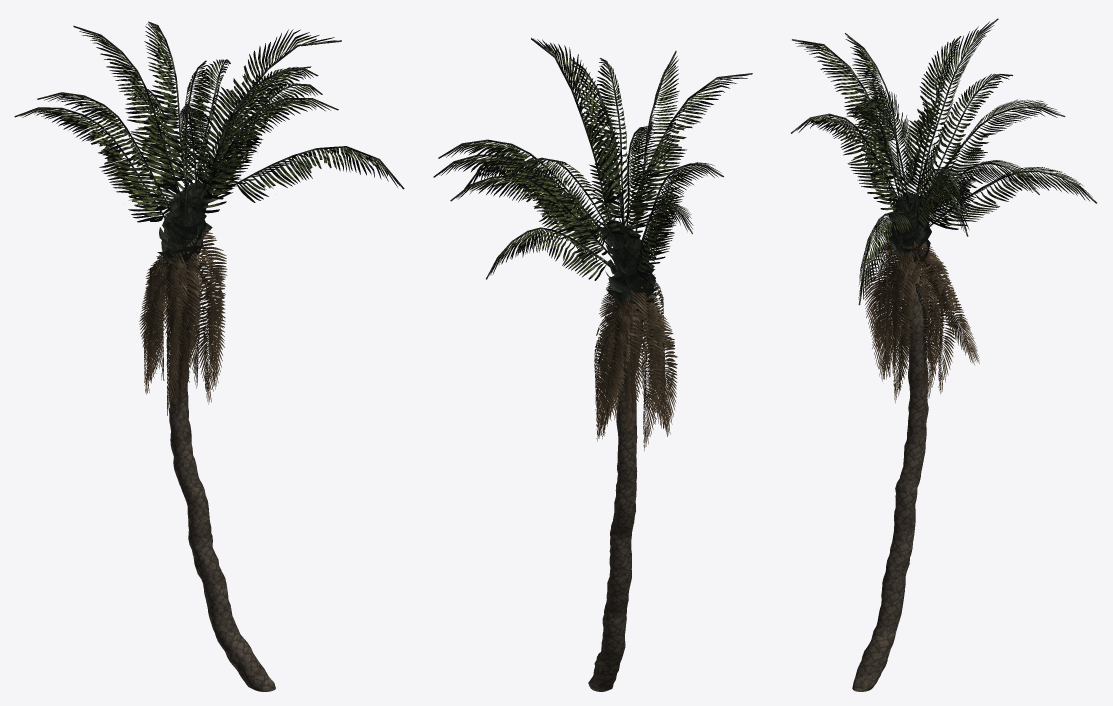
File: big_palm_tree.obj
The picture shows the model from 3 angles, left to right: view 1: azimuth 30°, elevation 25°; view 2: azimuth 150°, elevation 25°; view 3: azimuth 270°, elevation 25°; orthographic projection. The views are drawn at different scales.
Parts seen in each view (by area): view 1: Palm_tree_002_v2_M_frond_03_inst_Inst1_0.001, Palm_tree_002_v2_M_frond_01_inst.1_0.001, Palm_tree_002_v2_M_palm_bark_01.1_0.001, Palm_tree_002_v2_M_palm_bark_02.1_0.001, Palm_tree_002_v2_M_bark_hair_inst.1_0.001; view 2: Palm_tree_002_v2_M_frond_03_inst_Inst1_0.001, Palm_tree_002_v2_M_frond_01_inst.1_0.001, Palm_tree_002_v2_M_palm_bark_01.1_0.001, Palm_tree_002_v2_M_palm_bark_02.1_0.001, Palm_tree_002_v2_M_bark_hair_inst.1_0.001; view 3: Palm_tree_002_v2_M_frond_03_inst_Inst1_0.001, Palm_tree_002_v2_M_frond_01_inst.1_0.001, Palm_tree_002_v2_M_palm_bark_01.1_0.001, Palm_tree_002_v2_M_palm_bark_02.1_0.001, Palm_tree_002_v2_M_bark_hair_inst.1_0.001.
Boxes of the visible parts, left/top/right/bottom form: Palm_tree_002_v2_M_frond_03_inst_Inst1_0.001: left=16, top=23, right=399, bottom=222; Palm_tree_002_v2_M_frond_01_inst.1_0.001: left=139, top=227, right=227, bottom=415; Palm_tree_002_v2_M_palm_bark_01.1_0.001: left=169, top=262, right=275, bottom=691; Palm_tree_002_v2_M_palm_bark_02.1_0.001: left=14, top=21, right=404, bottom=219; Palm_tree_002_v2_M_bark_hair_inst.1_0.001: left=156, top=181, right=212, bottom=272; Palm_tree_002_v2_M_frond_03_inst_Inst1_0.001: left=438, top=38, right=747, bottom=281; Palm_tree_002_v2_M_frond_01_inst.1_0.001: left=594, top=263, right=677, bottom=450; Palm_tree_002_v2_M_palm_bark_01.1_0.001: left=588, top=303, right=643, bottom=691; Palm_tree_002_v2_M_palm_bark_02.1_0.001: left=433, top=38, right=752, bottom=279; Palm_tree_002_v2_M_bark_hair_inst.1_0.001: left=600, top=222, right=656, bottom=312; Palm_tree_002_v2_M_frond_03_inst_Inst1_0.001: left=793, top=21, right=1094, bottom=300; Palm_tree_002_v2_M_frond_01_inst.1_0.001: left=864, top=233, right=979, bottom=402; Palm_tree_002_v2_M_palm_bark_01.1_0.001: left=852, top=257, right=928, bottom=691; Palm_tree_002_v2_M_palm_bark_02.1_0.001: left=791, top=18, right=1096, bottom=305; Palm_tree_002_v2_M_bark_hair_inst.1_0.001: left=883, top=193, right=931, bottom=268.
Bounding box in the file's own units: 3.79 × 7.46 × 3.38.
5 materials, 5 textured.
